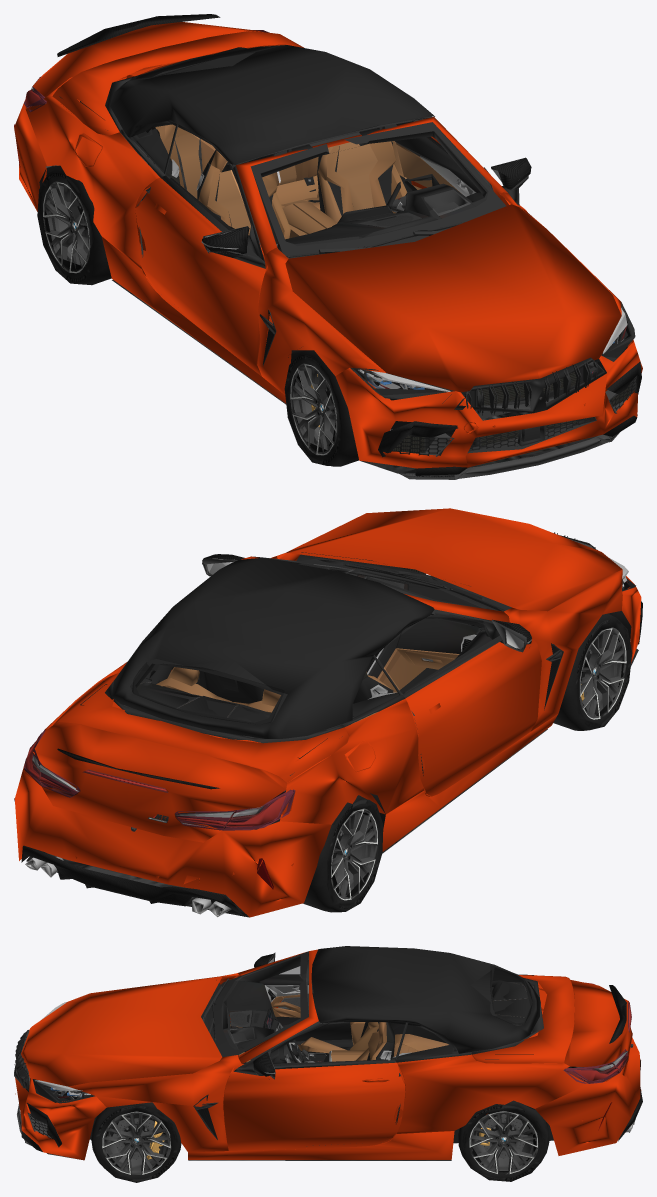
3 renders of one model, top to bottom at view 1: azimuth 30°, elevation 25°; view 2: azimuth 150°, elevation 25°; view 3: azimuth 270°, elevation 25°, orthographic. The views are drawn at different scales.
Parts seen in each view (by area): view 1: b:SM_Base_0000_001_SM_Base_0000_001_MAT_BMW_M8_Base_052_b:MA, b:SM_Interior_0000_001_SM_Interior_0000_001_MAT_BMW_M8_Base_ (×3), b:SM_Base_0000_001_SM_Base_0000_001_MAT_BMW_M8_Base_054_b:MA, b:SM_SoftTop_0000_001_SM_SoftTop_0000_001_MAT_Glass_029_b:MA, b:SM_Base_0000_001_SM_Base_0000_001_MAT_BMW_M8_Base_057_b:MA, b:SM_Hub_L_0000_001_SM_Hub_L_0000_001_MAT_Details_Hub_b:MAT_, polySurface220_b:BMW_M8ConvertiblePride_2021_Wheel1A_3D_3DWh, b:SM_Base_0000_001_SM_Base_0000_001_MAT_BMW_M8_Base_053_b:MA, b:SM_FrontKit_0000_001_SM_FrontKit_0000_001_MAT_BMW_M8_Base_ (×3), b:SM_Base_0000_001_SM_Base_0000_001_MAT_BMW_M8_Base_055_b:MA; view 2: b:SM_Base_0000_001_SM_Base_0000_001_MAT_BMW_M8_Base_052_b:MA, b:SM_SoftTop_0000_001_SM_SoftTop_0000_001_MAT_Glass_029_b:MA, b:SM_Base_0000_001_SM_Base_0000_001_MAT_BMW_M8_Base_054_b:MA, b:SM_Interior_0000_001_SM_Interior_0000_001_MAT_BMW_M8_Base_, b:SM_Base_0000_001_SM_Base_0000_001_MAT_BMW_M8_Base_057_b:MA, b:SM_Hub_L_0000_001_SM_Hub_L_0000_001_MAT_Details_Hub_b:MAT_, polySurface220_b:BMW_M8ConvertiblePride_2021_Wheel1A_3D_3DWh, b:SM_Base_0000_001_SM_Base_0000_001_MAT_BMW_M8_Base_053_b:MA, b:SM_Base_0000_001_SM_Base_0000_001_MAT_BMW_M8_Base_055_b:MA, b:SM_FrontKit_0000_001_SM_FrontKit_0000_001_MAT_BMW_M8_Base_; view 3: b:SM_Base_0000_001_SM_Base_0000_001_MAT_BMW_M8_Base_052_b:MA, b:SM_SoftTop_0000_001_SM_SoftTop_0000_001_MAT_Glass_029_b:MA, b:SM_Interior_0000_001_SM_Interior_0000_001_MAT_BMW_M8_Base_ (×2), b:SM_Base_0000_001_SM_Base_0000_001_MAT_BMW_M8_Base_054_b:MA, b:SM_Hub_L_0000_001_SM_Hub_L_0000_001_MAT_Details_Hub_b:MAT_, b:SM_Base_0000_001_SM_Base_0000_001_MAT_BMW_M8_Base_057_b:MA, polySurface220_b:BMW_M8ConvertiblePride_2021_Wheel1A_3D_3DWh, b:SM_Base_0000_001_SM_Base_0000_001_MAT_BMW_M8_Base_053_b:MA, b:SM_Base_0000_001_SM_Base_0000_001_MAT_BMW_M8_Base_055_b:MA, b:SM_Disk_L_0000_001_SM_Disk_L_0000_001_MAT_Disk_b:MAT_Disk1, b:SM_FrontKit_0000_001_SM_FrontKit_0000_001_MAT_BMW_M8_Base_.
Part boxes in pixels (left/top/right/bottom): b:SM_Base_0000_001_SM_Base_0000_001_MAT_BMW_M8_Base_052_b:MA: left=14, top=22, right=642, bottom=468; b:SM_Interior_0000_001_SM_Interior_0000_001_MAT_BMW_M8_Base_ (×3): left=59, top=96, right=506, bottom=352; b:SM_Base_0000_001_SM_Base_0000_001_MAT_BMW_M8_Base_054_b:MA: left=25, top=45, right=633, bottom=394; b:SM_SoftTop_0000_001_SM_SoftTop_0000_001_MAT_Glass_029_b:MA: left=80, top=45, right=434, bottom=164; b:SM_Base_0000_001_SM_Base_0000_001_MAT_BMW_M8_Base_057_b:MA: left=39, top=47, right=636, bottom=479; b:SM_Hub_L_0000_001_SM_Hub_L_0000_001_MAT_Details_Hub_b:MAT_: left=43, top=181, right=337, bottom=455; polySurface220_b:BMW_M8ConvertiblePride_2021_Wheel1A_3D_3DWh: left=37, top=167, right=627, bottom=466; b:SM_Base_0000_001_SM_Base_0000_001_MAT_BMW_M8_Base_053_b:MA: left=57, top=14, right=641, bottom=475; b:SM_FrontKit_0000_001_SM_FrontKit_0000_001_MAT_BMW_M8_Base_ (×3): left=112, top=149, right=637, bottom=473; b:SM_Base_0000_001_SM_Base_0000_001_MAT_BMW_M8_Base_055_b:MA: left=14, top=30, right=635, bottom=403; b:SM_Base_0000_001_SM_Base_0000_001_MAT_BMW_M8_Base_052_b:MA: left=14, top=508, right=641, bottom=917; b:SM_SoftTop_0000_001_SM_SoftTop_0000_001_MAT_Glass_029_b:MA: left=80, top=558, right=434, bottom=797; b:SM_Base_0000_001_SM_Base_0000_001_MAT_BMW_M8_Base_054_b:MA: left=14, top=569, right=634, bottom=887; b:SM_Interior_0000_001_SM_Interior_0000_001_MAT_BMW_M8_Base_: left=95, top=556, right=497, bottom=791; b:SM_Base_0000_001_SM_Base_0000_001_MAT_BMW_M8_Base_057_b:MA: left=25, top=532, right=631, bottom=917; b:SM_Hub_L_0000_001_SM_Hub_L_0000_001_MAT_Details_Hub_b:MAT_: left=331, top=627, right=626, bottom=900; polySurface220_b:BMW_M8ConvertiblePride_2021_Wheel1A_3D_3DWh: left=303, top=613, right=632, bottom=912; b:SM_Base_0000_001_SM_Base_0000_001_MAT_BMW_M8_Base_053_b:MA: left=21, top=554, right=642, bottom=916; b:SM_Base_0000_001_SM_Base_0000_001_MAT_BMW_M8_Base_055_b:MA: left=14, top=557, right=635, bottom=889; b:SM_FrontKit_0000_001_SM_FrontKit_0000_001_MAT_BMW_M8_Base_: left=26, top=591, right=638, bottom=917; b:SM_Base_0000_001_SM_Base_0000_001_MAT_BMW_M8_Base_052_b:MA: left=15, top=949, right=641, bottom=1160; b:SM_SoftTop_0000_001_SM_SoftTop_0000_001_MAT_Glass_029_b:MA: left=311, top=946, right=571, bottom=1067; b:SM_Interior_0000_001_SM_Interior_0000_001_MAT_BMW_M8_Base_ (×2): left=206, top=951, right=498, bottom=1146; b:SM_Base_0000_001_SM_Base_0000_001_MAT_BMW_M8_Base_054_b:MA: left=33, top=957, right=628, bottom=1119; b:SM_Hub_L_0000_001_SM_Hub_L_0000_001_MAT_Details_Hub_b:MAT_: left=102, top=1111, right=538, bottom=1175; b:SM_Base_0000_001_SM_Base_0000_001_MAT_BMW_M8_Base_057_b:MA: left=14, top=952, right=635, bottom=1145; polySurface220_b:BMW_M8ConvertiblePride_2021_Wheel1A_3D_3DWh: left=91, top=1100, right=549, bottom=1182; b:SM_Base_0000_001_SM_Base_0000_001_MAT_BMW_M8_Base_053_b:MA: left=21, top=953, right=642, bottom=1151; b:SM_Base_0000_001_SM_Base_0000_001_MAT_BMW_M8_Base_055_b:MA: left=32, top=982, right=631, bottom=1128; b:SM_Disk_L_0000_001_SM_Disk_L_0000_001_MAT_Disk_b:MAT_Disk1: left=112, top=1114, right=528, bottom=1159; b:SM_FrontKit_0000_001_SM_FrontKit_0000_001_MAT_BMW_M8_Base_: left=39, top=1062, right=610, bottom=1160.
Bounding box in the file's own units: 0.0215 × 0.0136 × 0.0484.
19 materials, 15 textured.
